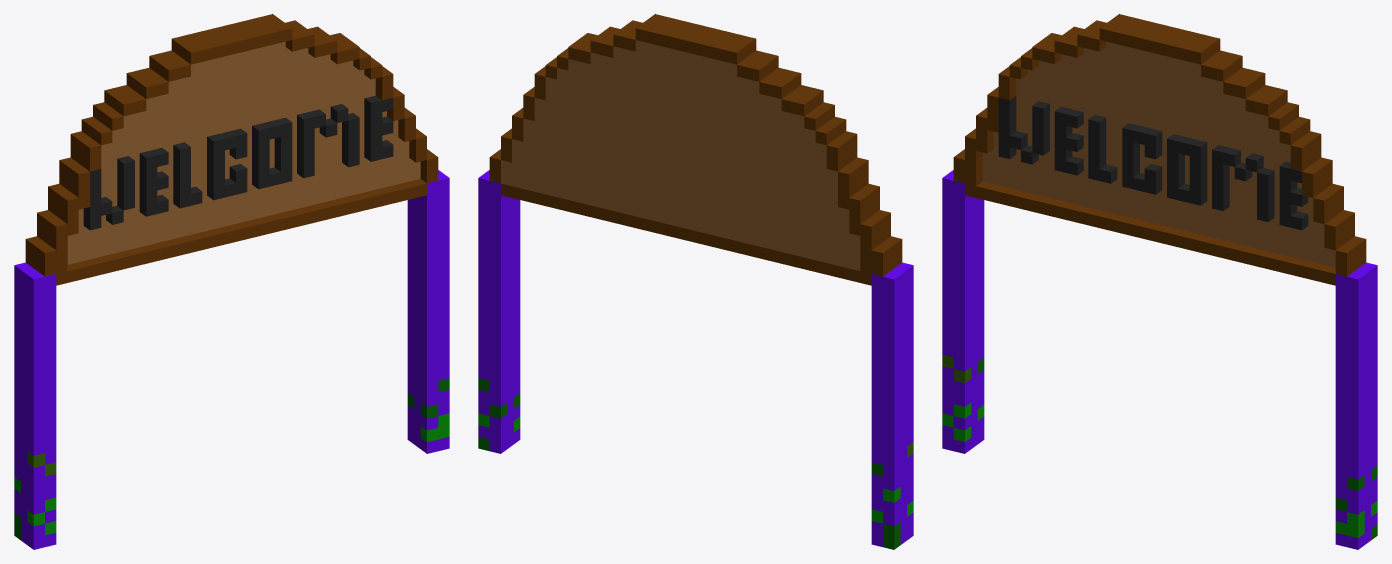
File: welcome.obj
3 views of the same model, side by side, from view 1: azimuth 30°, elevation 25°; view 2: azimuth 150°, elevation 25°; view 3: azimuth 330°, elevation 25° (orthographic).
Bounding box in the file's own units: 37 × 39 × 3.
